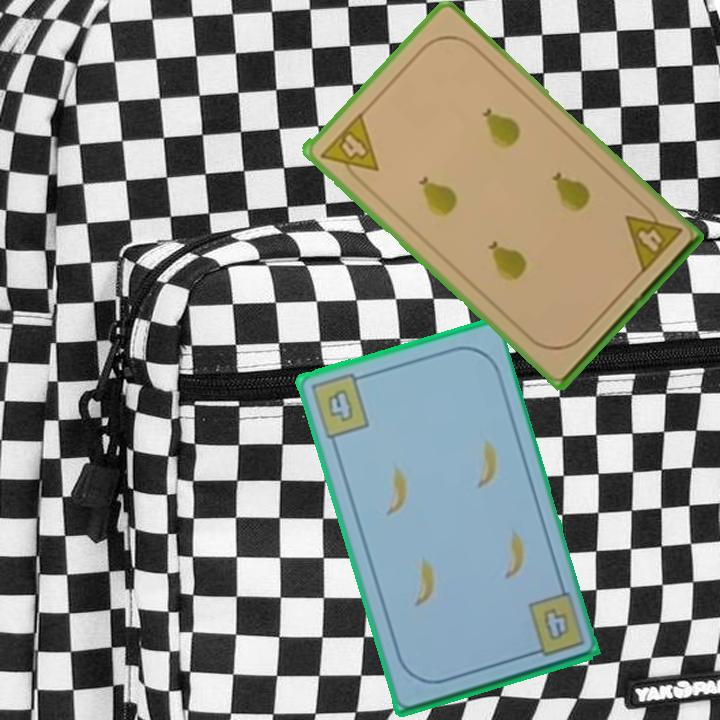4b: (306, 370, 372, 442), (539, 604, 572, 644)
4p: (316, 109, 381, 188), (621, 198, 685, 277)
